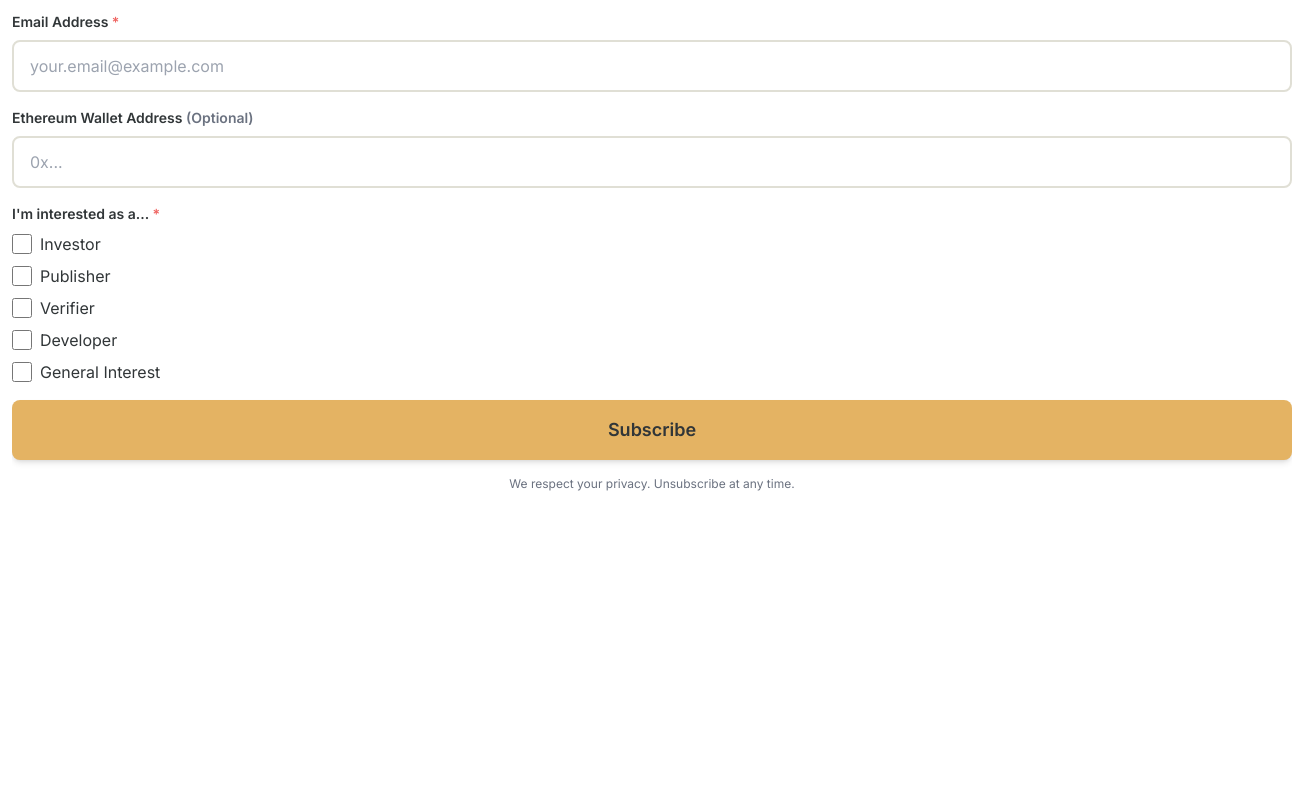
Test case: EmailCaptureForm Component Tests › should handle form submission success flow
Note: Fill form
Type "test@example.com" into the field labelled "Email Address *" at [652, 66], box [12,40,1292,92]
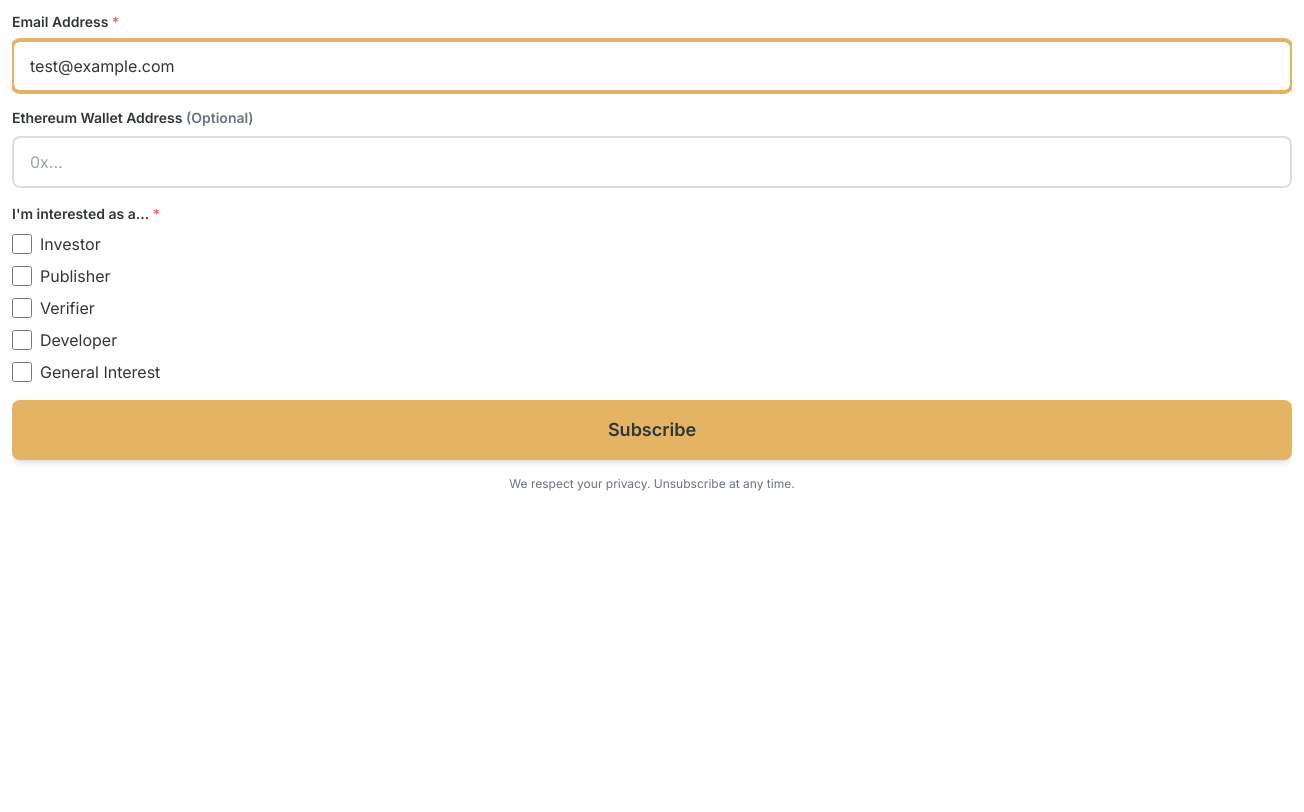
Click the checkbox labelled "Investor" at [22, 244], box [12,234,32,254]
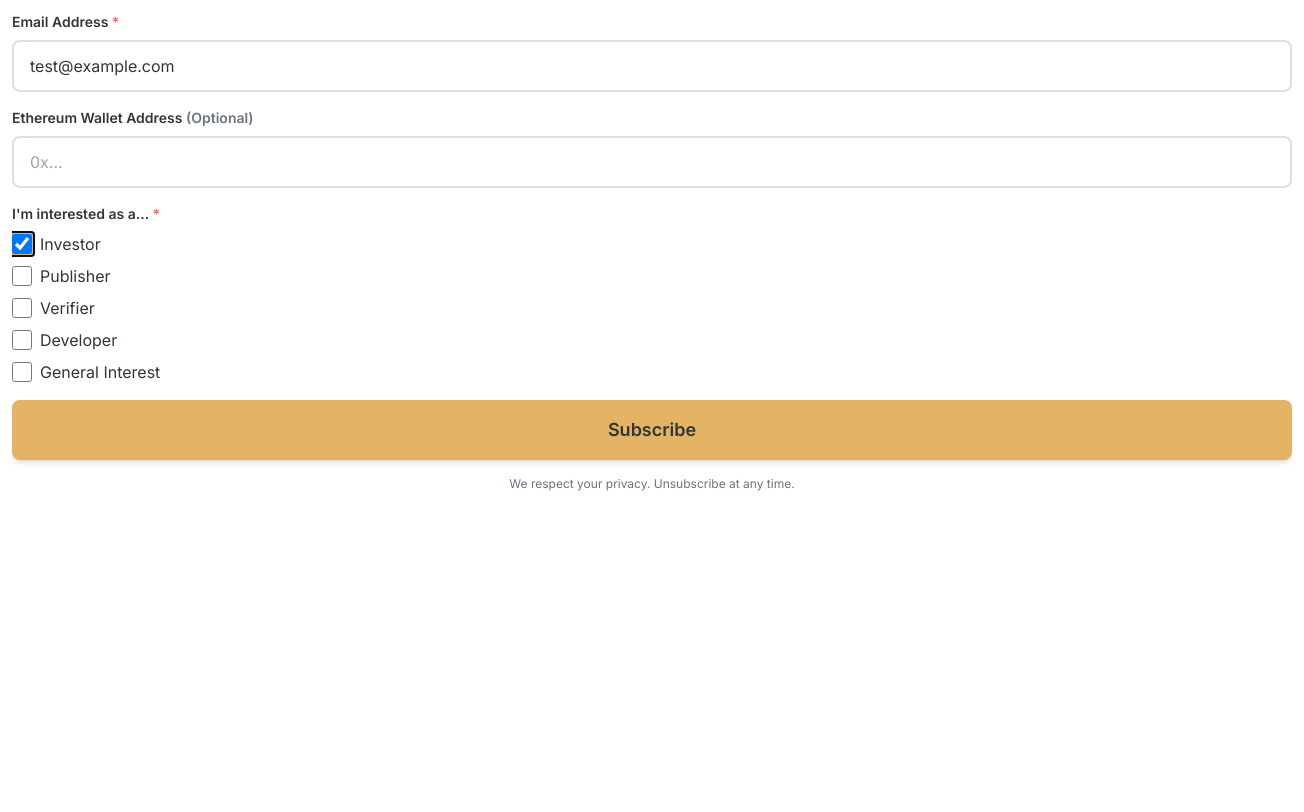
Click the button "Subscribe" at [652, 430], box [12,400,1292,460]
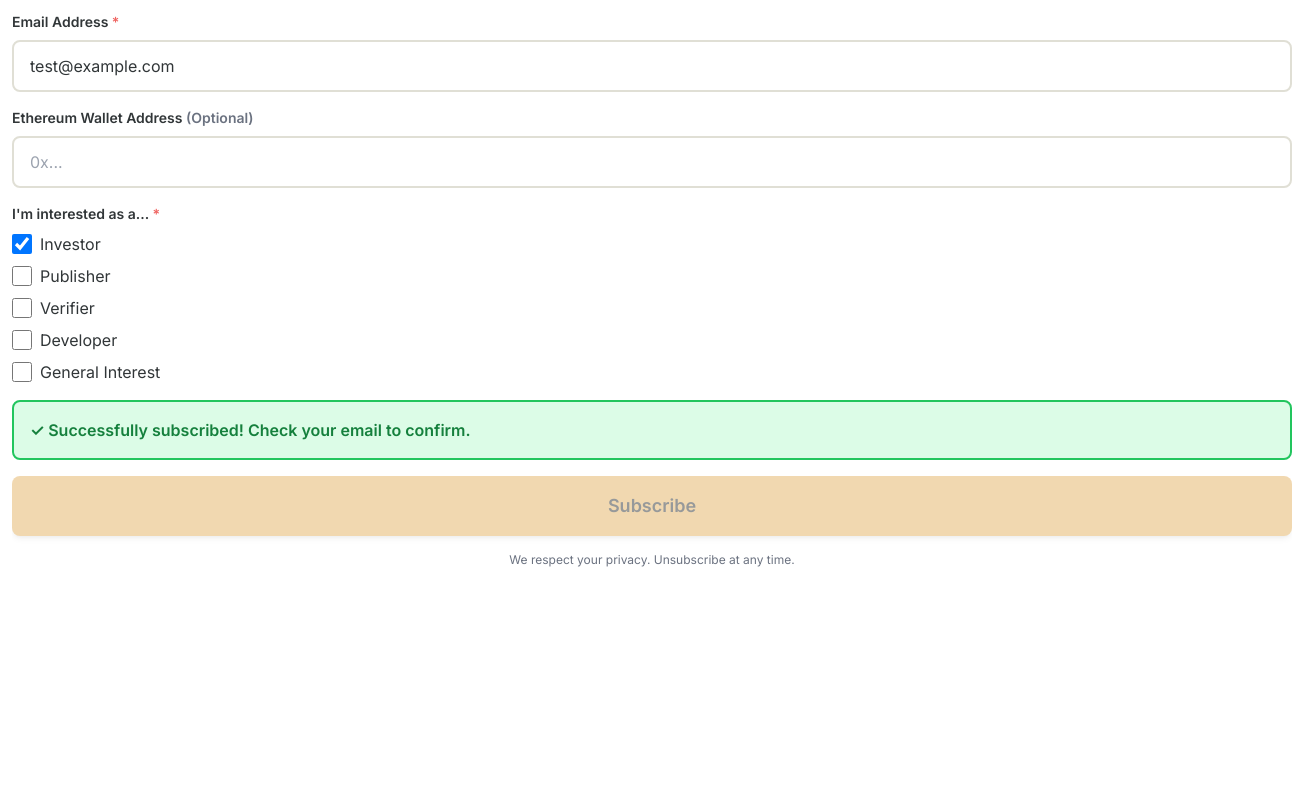
Check: the button "subscribing" is shown, box [12,476,1292,536]
Check: the text "✓ Successfully subscribed! Check your email to confirm." is shown, box [30,420,471,440]
